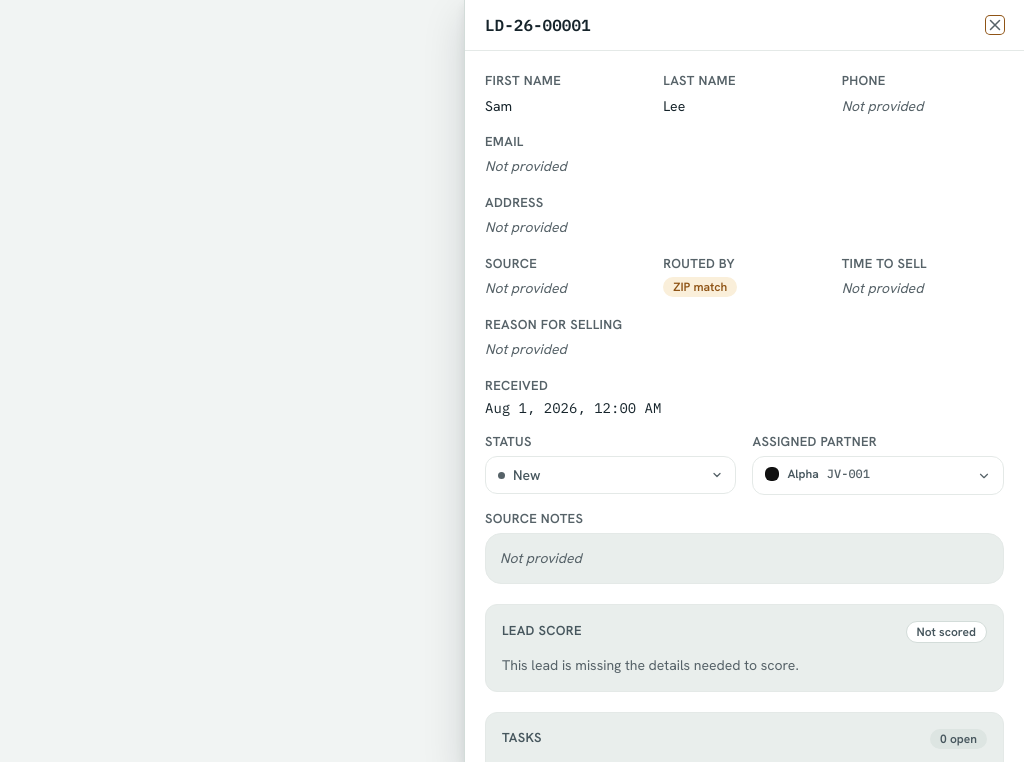
ASN-03/FRM-03: reassigning a lead is confirmed before it is written › cancelling the confirmation writes nothing and leaves the owner alone
Step 1. Click the dropdown named "assigned partner" → (878, 476), box x1=752 y1=456 x2=1004 y2=495
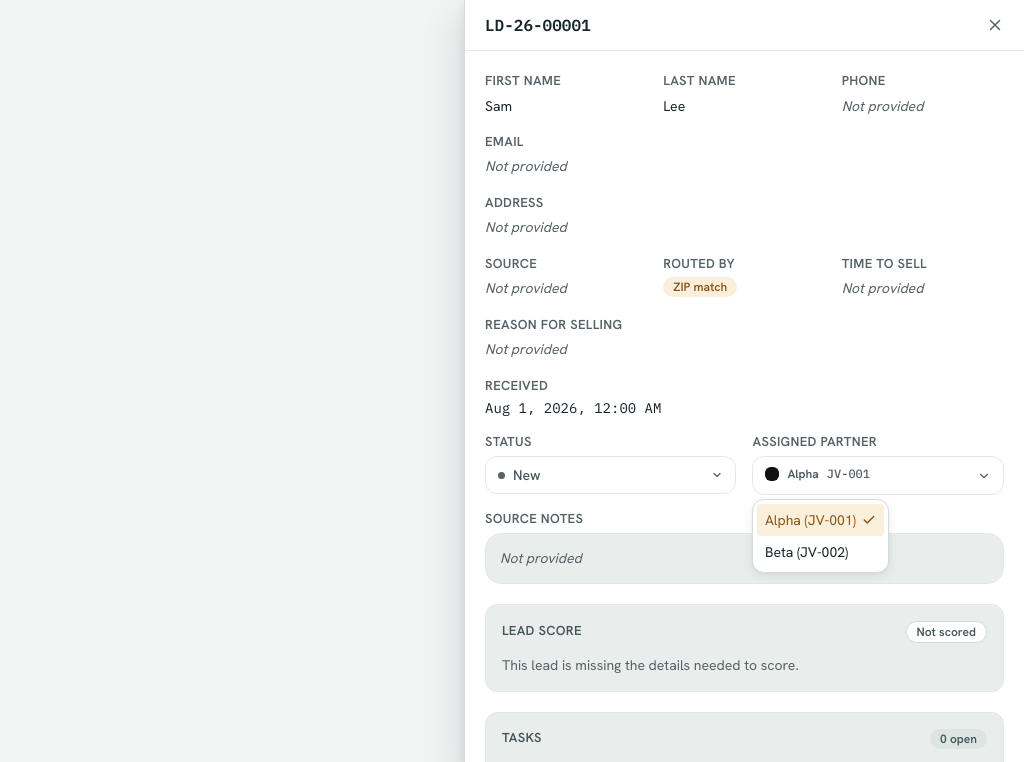
Step 2. Click the option "Beta (JV-002)" → (807, 552), box x1=765 y1=543 x2=848 y2=561
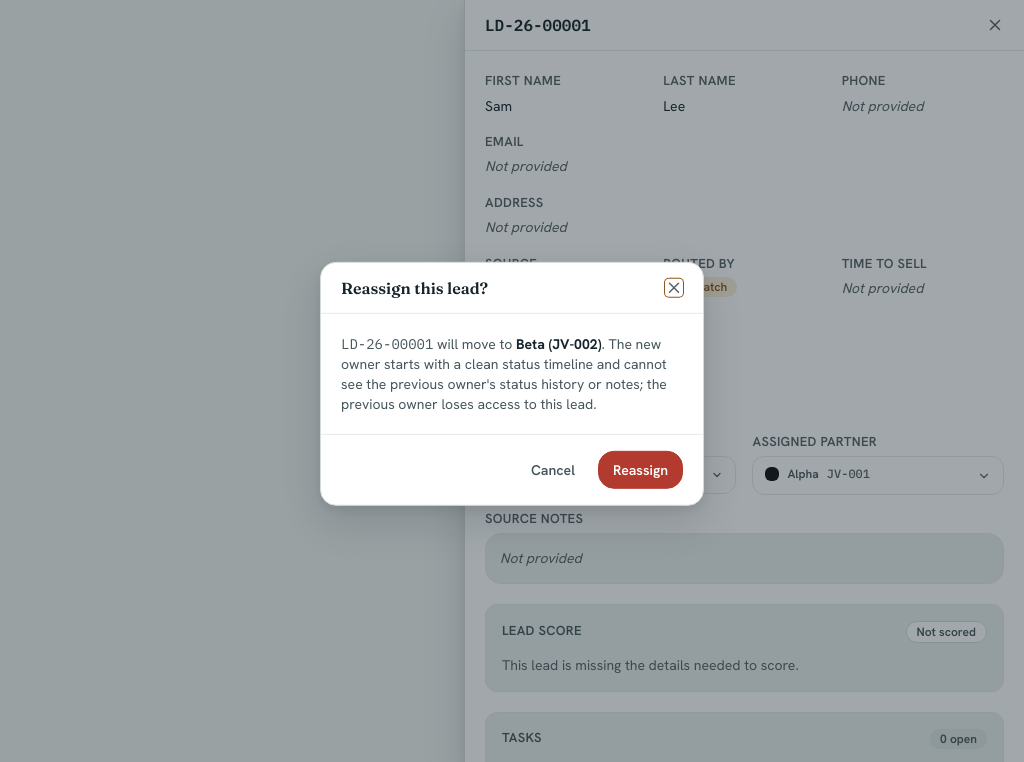
Step 3. Click the button "Cancel" → (553, 470), box x1=516 y1=451 x2=590 y2=489
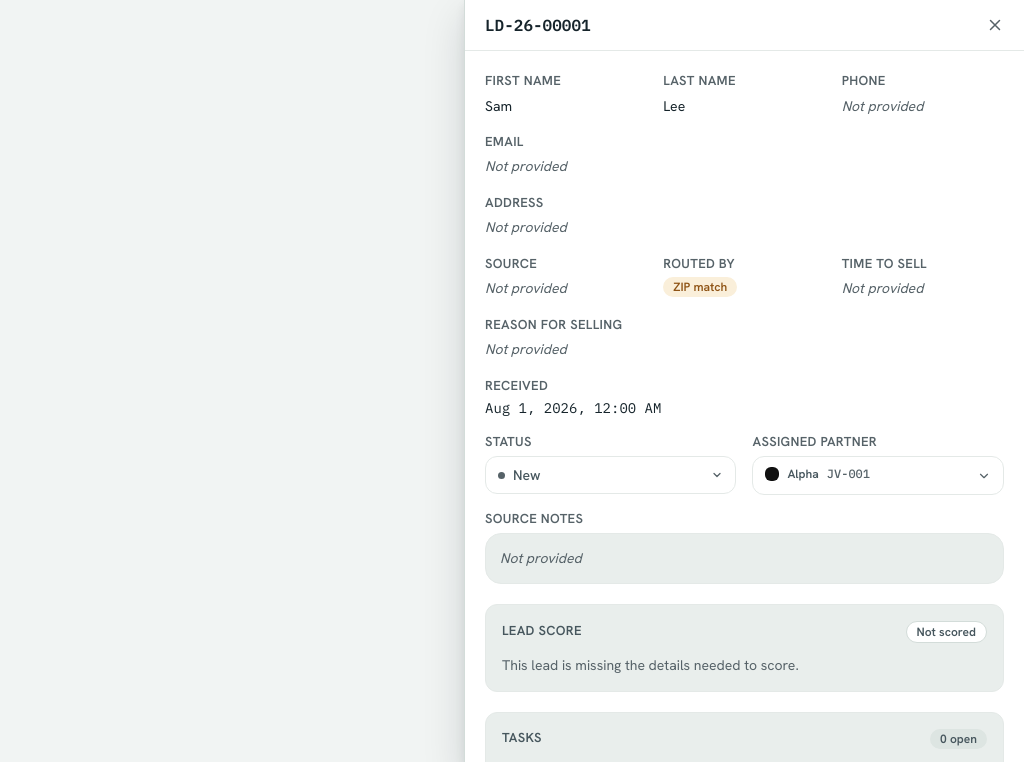
Expected: the text "Alpha" is shown, x1=788 y1=466 x2=819 y2=482
Result: the heading "Reassign this lead" is gone
